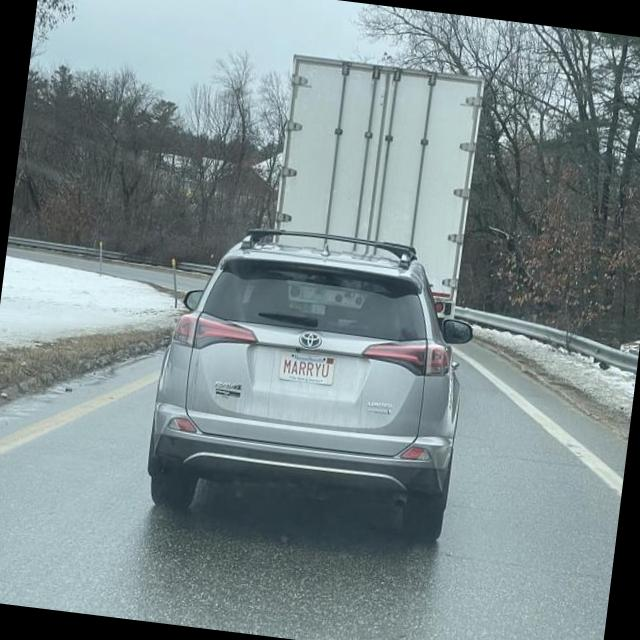LicensePlate: (276, 348, 337, 386)
